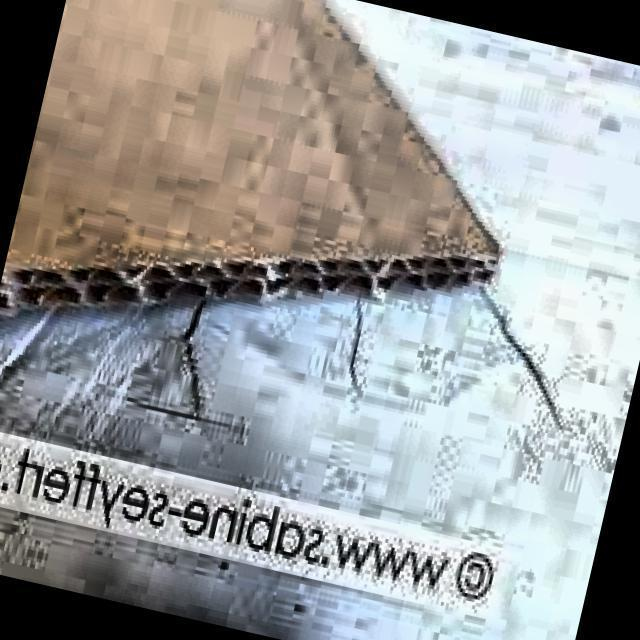cardboard: (0, 0, 553, 445)
